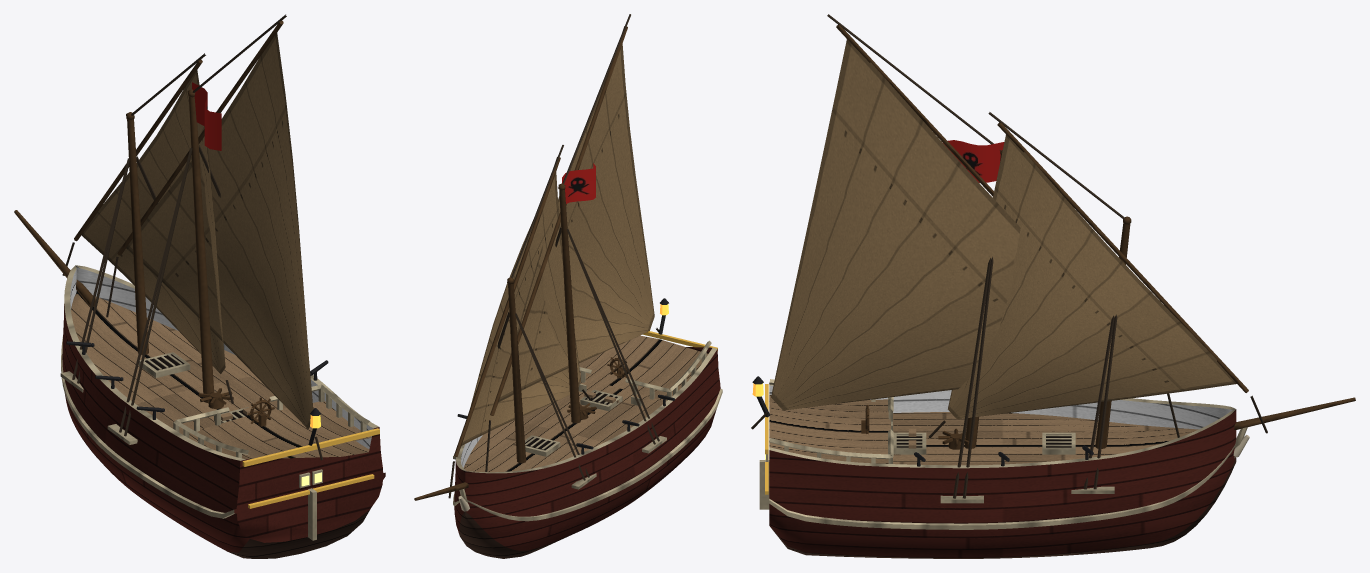
File: brethren_skirmisher.glb
The picture shows the model from 3 angles, left to right: view 1: azimuth 30°, elevation 25°; view 2: azimuth 150°, elevation 25°; view 3: azimuth 270°, elevation 25°; orthographic projection. The views are drawn at different scales.
Parts seen in each view (by area): view 1: Hull, Sail1_0, Rigging, Sail0_0, Flag, Guns0; view 2: Hull, Sail1_0, Rigging, Sail0_0, Flag; view 3: Hull, Sail1_0, Sail0_0, Rigging, Flag.
Boxes of the visible parts, <box> form: Hull: <box>60,265,385,558</box>; Sail1_0: <box>126,32,313,428</box>; Rigging: <box>14,14,322,460</box>; Sail0_0: <box>81,70,225,373</box>; Flag: <box>192,82,221,150</box>; Guns0: <box>66,341,328,419</box>; Hull: <box>453,298,722,558</box>; Sail1_0: <box>498,44,654,401</box>; Rigging: <box>414,14,659,500</box>; Sail0_0: <box>461,172,580,445</box>; Flag: <box>562,163,595,203</box>; Hull: <box>752,376,1249,558</box>; Sail1_0: <box>771,39,1020,410</box>; Sail0_0: <box>948,134,1236,419</box>; Rigging: <box>751,14,1355,498</box>; Flag: <box>943,140,1004,182</box>.
Bounding box in the file's own units: 0.7057 × 1.87 × 1.94.
Materials: 15 (8 with a texture image).
